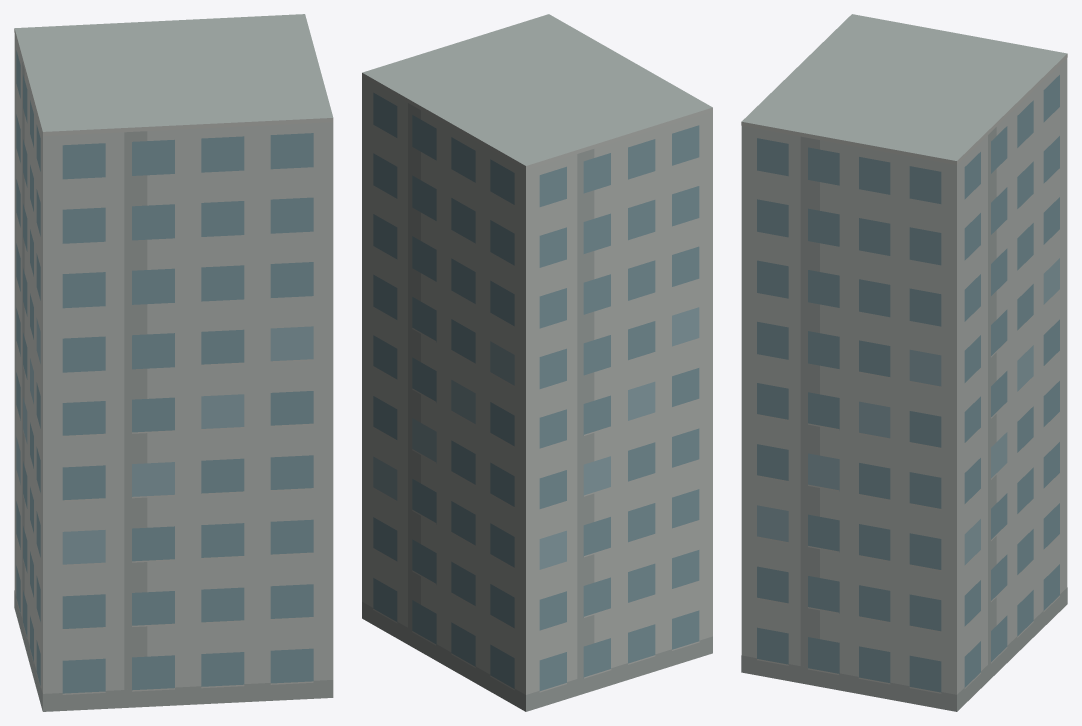
File: residential-62c843ce-f968-4c89-8f45-effed2952038.glb
3 renders of one model, left to right at view 1: azimuth 30°, elevation 25°; view 2: azimuth 150°, elevation 25°; view 3: azimuth 270°, elevation 25°, orthographic. The views are drawn at different scales.
Parts seen in each view (by area): view 1: residential-62c843ce-f968-4c89-8f45-effed2952038.tmp; view 2: residential-62c843ce-f968-4c89-8f45-effed2952038.tmp; view 3: residential-62c843ce-f968-4c89-8f45-effed2952038.tmp.
Boxes of the visible parts, <box> form: residential-62c843ce-f968-4c89-8f45-effed2952038.tmp: <box>14,14,333,711</box>; residential-62c843ce-f968-4c89-8f45-effed2952038.tmp: <box>362,14,712,711</box>; residential-62c843ce-f968-4c89-8f45-effed2952038.tmp: <box>741,14,1067,711</box>.
Size of the model in its own units: 18.91 by 33 by 17.71.
